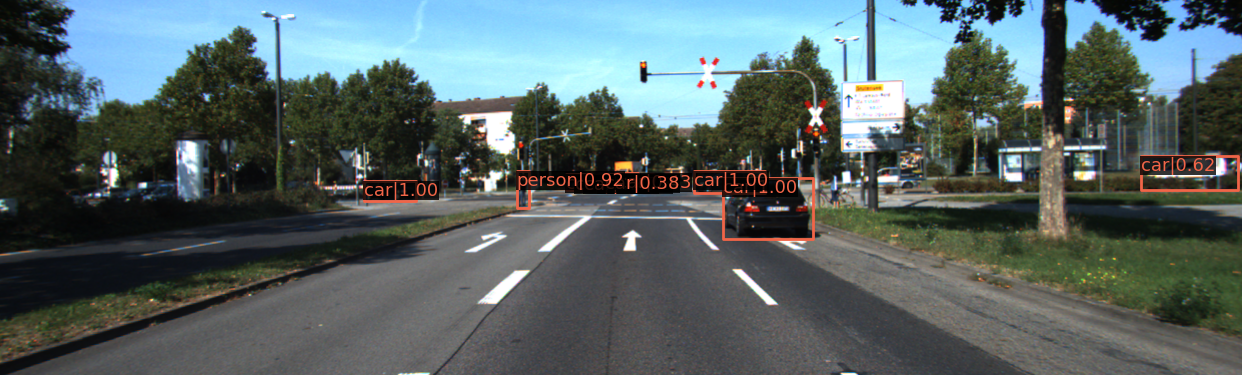car: (722, 178, 812, 240), (855, 167, 920, 191), (693, 172, 755, 193), (362, 180, 419, 202), (567, 176, 590, 190), (601, 176, 621, 190)
person: (524, 172, 530, 208)
